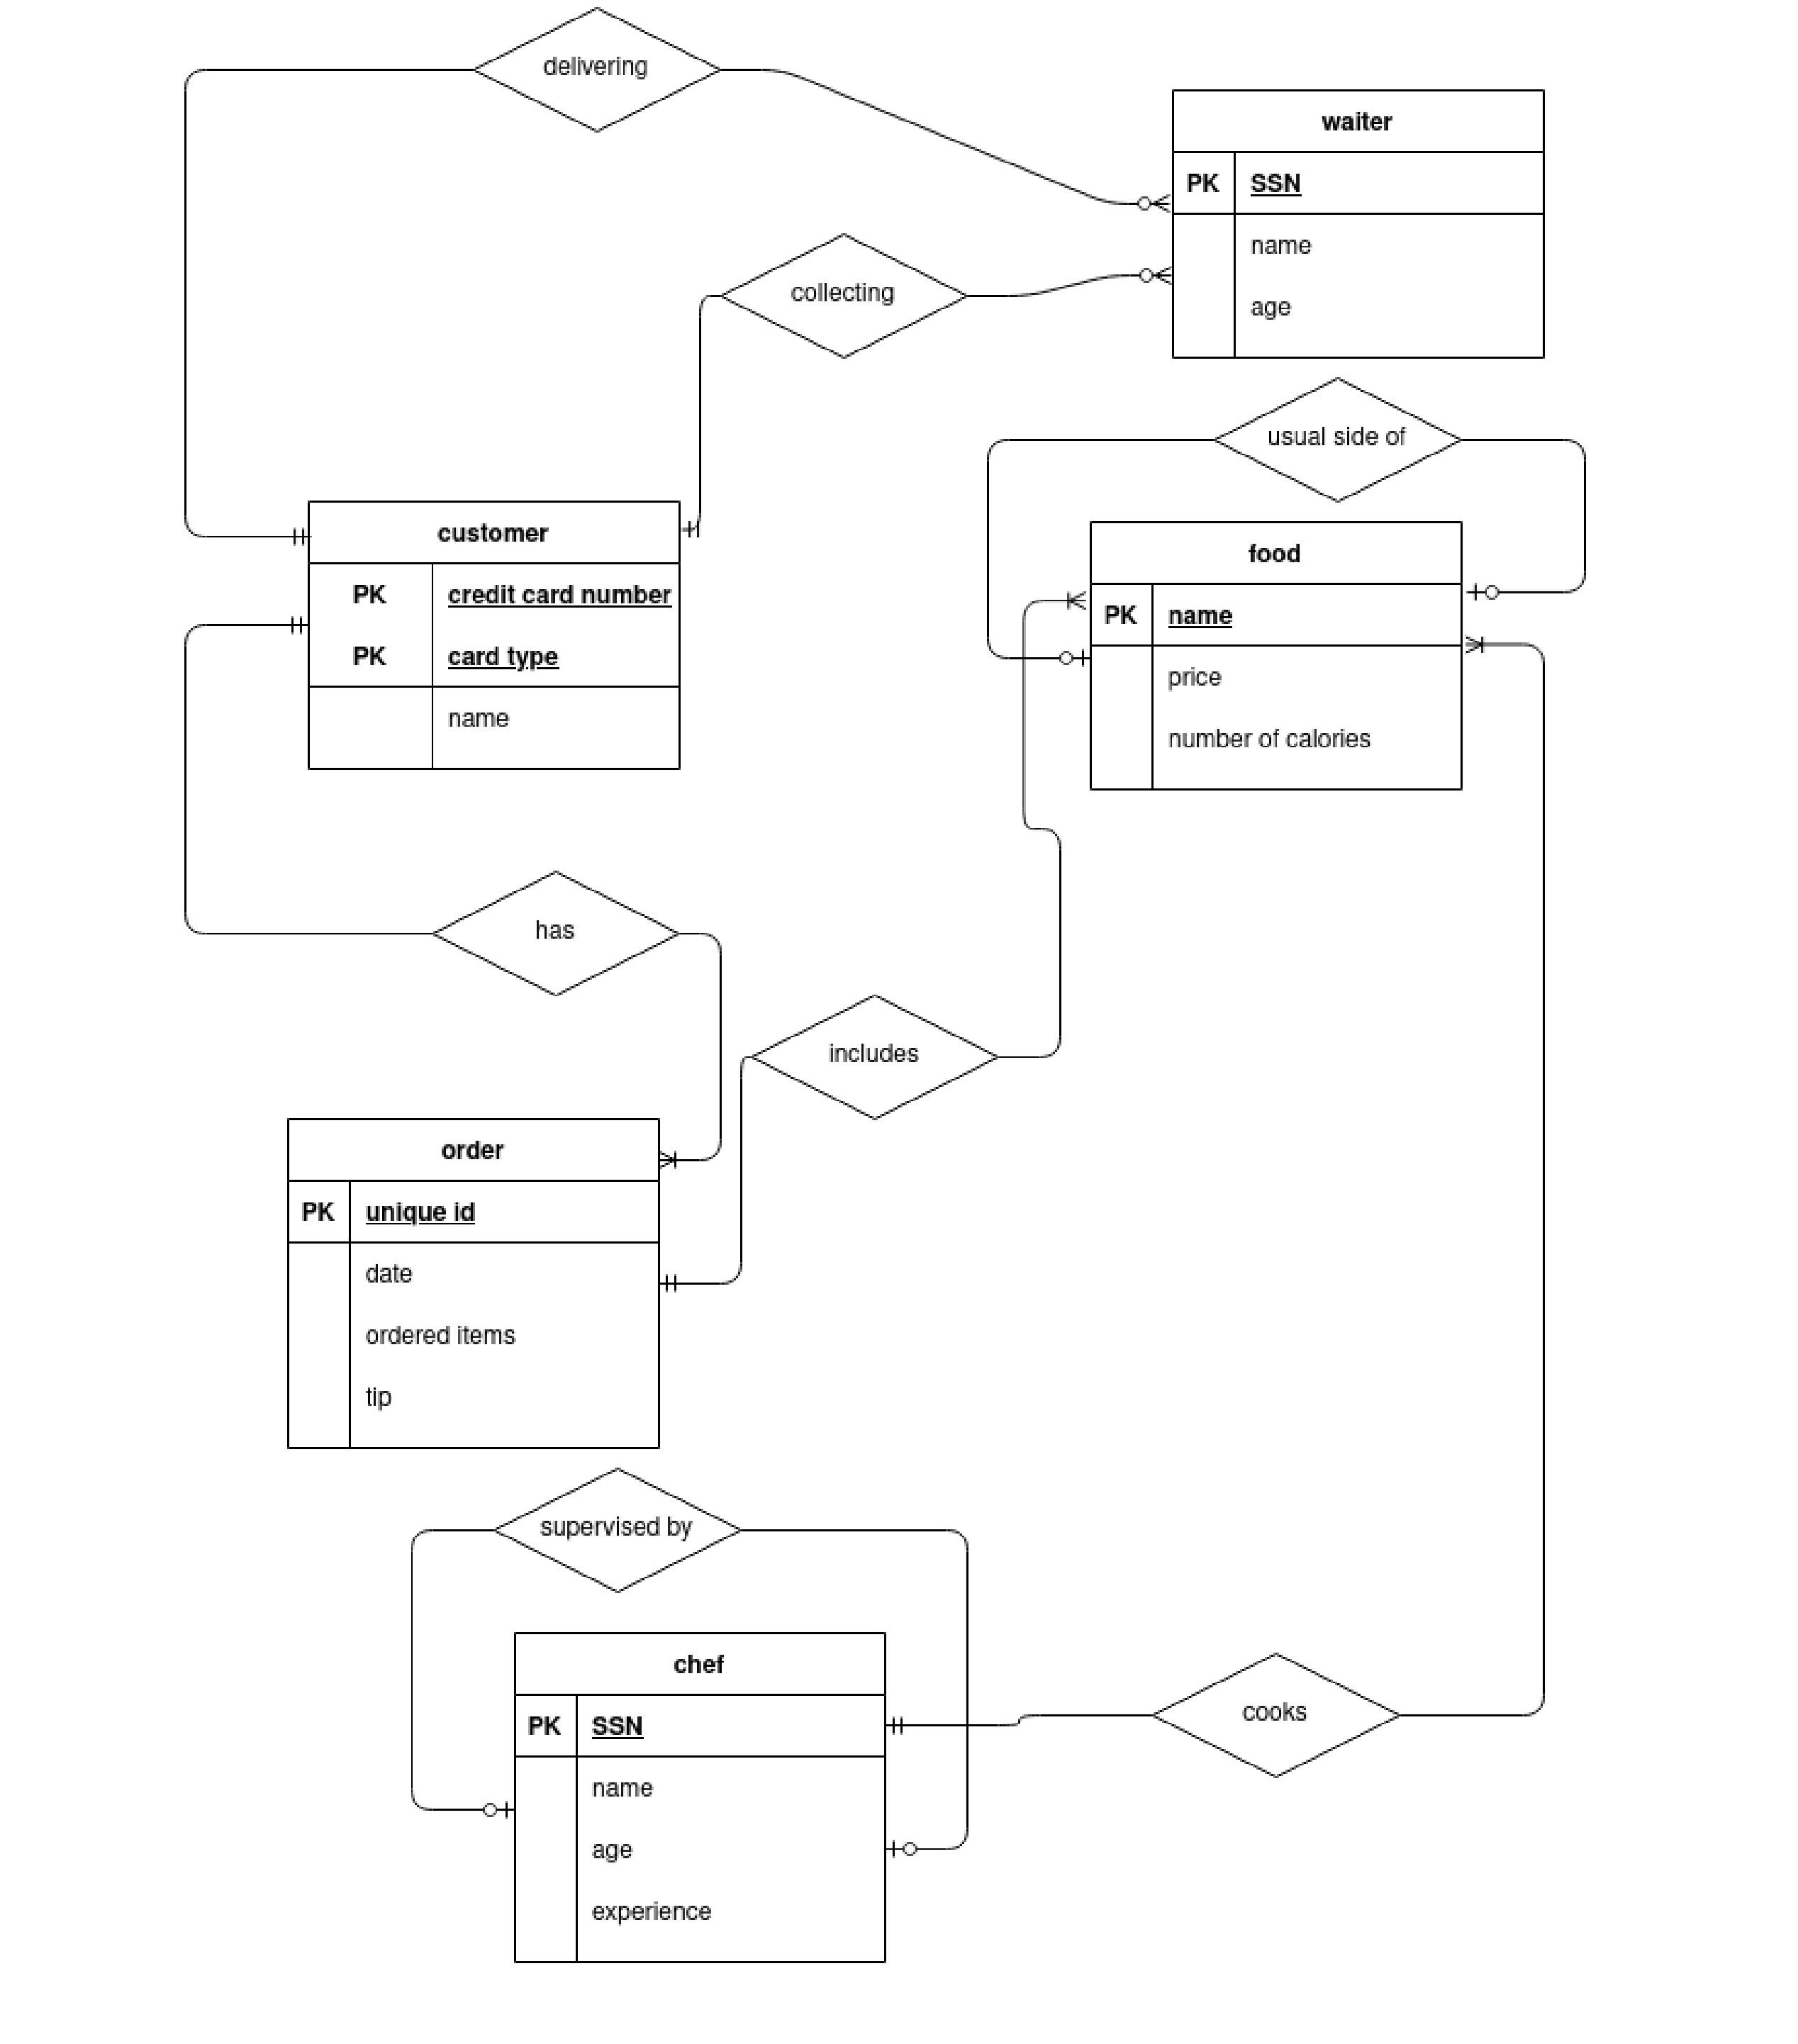Entity: (285, 1116, 661, 1451), (513, 1630, 887, 1966), (1170, 89, 1546, 362), (1089, 520, 1464, 793), (308, 501, 682, 772)
Relationship: (1149, 1651, 1402, 1782), (431, 871, 680, 998), (492, 1467, 741, 1594), (471, 7, 722, 132), (1212, 377, 1461, 502), (718, 233, 965, 358), (751, 998, 998, 1121)
